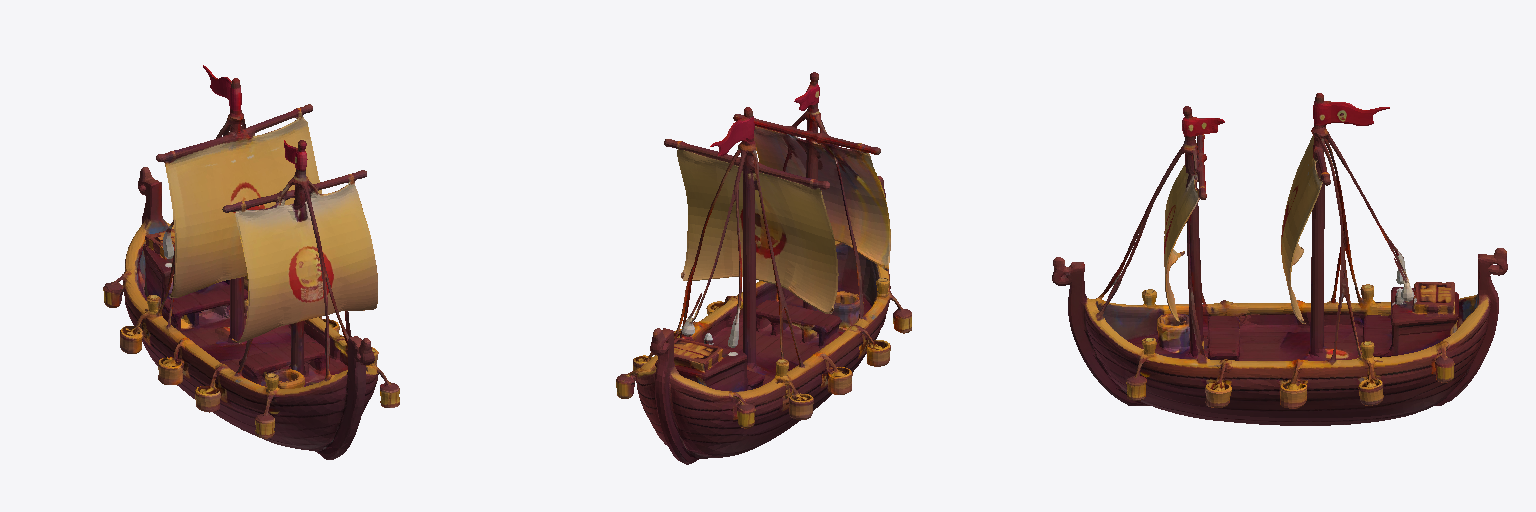
The picture shows the model from 3 angles: view 1: azimuth 30°, elevation 25°; view 2: azimuth 150°, elevation 25°; view 3: azimuth 270°, elevation 25°; orthographic projection.
Parts seen in each view (by area): view 1: tripo_node_[number redacted]-ac65-4990-8067-2e4cc88dc64a; view 2: tripo_node_[number redacted]-ac65-4990-8067-2e4cc88dc64a; view 3: tripo_node_[number redacted]-ac65-4990-8067-2e4cc88dc64a.
Part boxes in pixels (bbox=[...]): tripo_node_[number redacted]-ac65-4990-8067-2e4cc88dc64a: bbox=[103, 65, 399, 459]; tripo_node_[number redacted]-ac65-4990-8067-2e4cc88dc64a: bbox=[616, 72, 911, 464]; tripo_node_[number redacted]-ac65-4990-8067-2e4cc88dc64a: bbox=[1052, 93, 1507, 425].
Bounding box in the file's own units: 0.4563 × 0.7875 × 0.9986.
Materials: 1 (1 with a texture image).